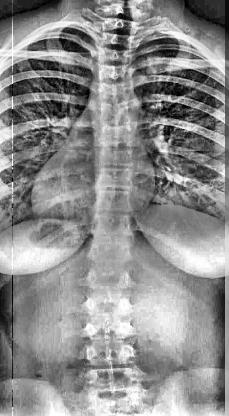Vertebrae: (78, 366, 148, 394), (85, 336, 141, 368), (80, 312, 138, 342), (84, 288, 134, 318), (86, 262, 136, 290), (90, 212, 136, 242), (87, 239, 137, 266), (92, 188, 136, 216), (95, 123, 141, 149), (96, 164, 138, 192), (96, 100, 140, 126), (93, 80, 139, 104), (97, 144, 137, 170), (93, 62, 137, 84), (100, 29, 142, 52), (94, 46, 138, 66)
